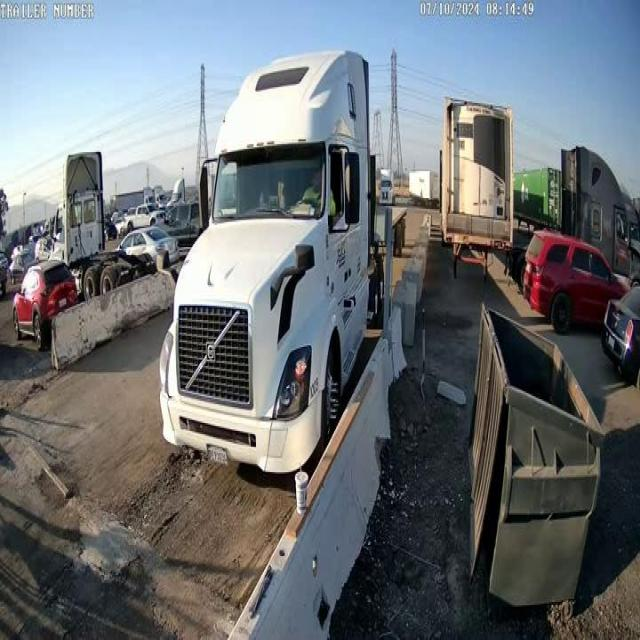BOBTAIL: (156, 48, 407, 478)
